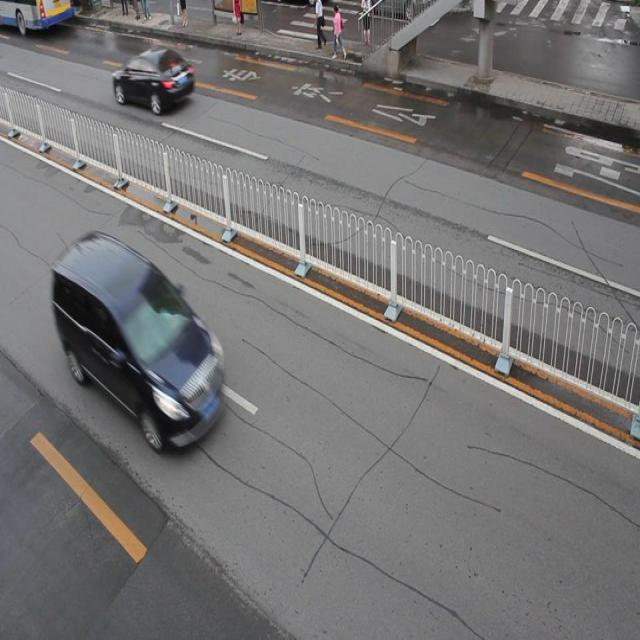car: (112, 44, 195, 114)
truck: (52, 229, 225, 450)
